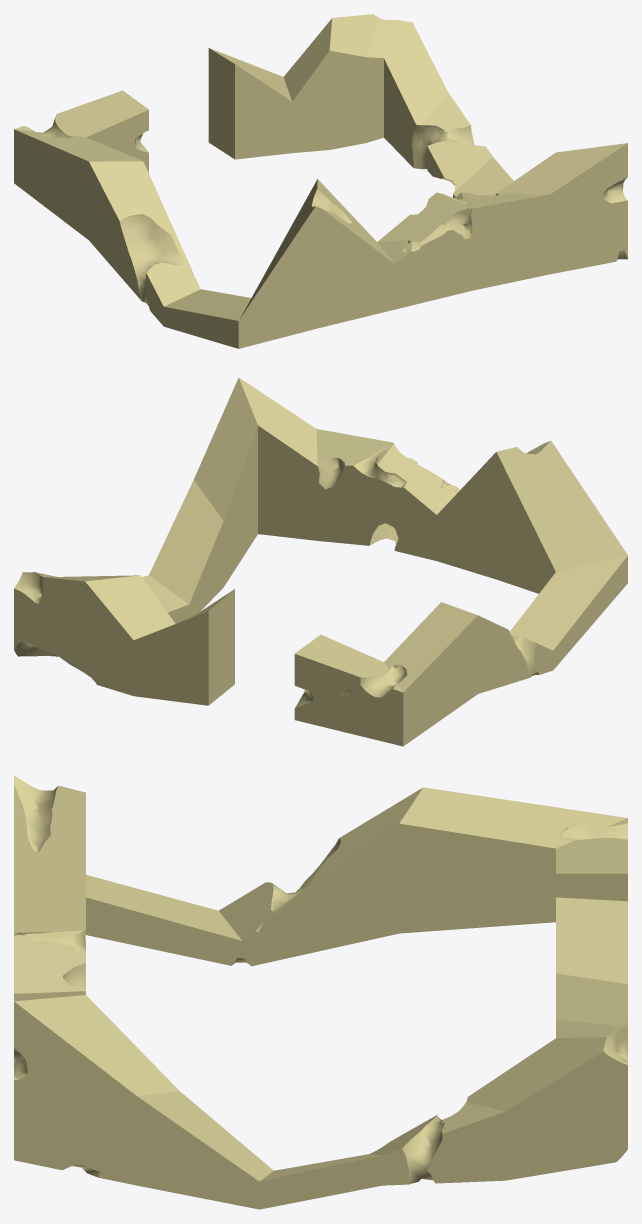
The model's file is Ruins_1.glb.
3 renders of one model, top to bottom at view 1: azimuth 30°, elevation 25°; view 2: azimuth 150°, elevation 25°; view 3: azimuth 270°, elevation 25°, orthographic. The views are drawn at different scales.
Visible parts, largest first — view 1: Ruins_1; view 2: Ruins_1; view 3: Ruins_1.
Part boxes in pixels (left/top/right/bottom): Ruins_1: left=14, top=14, right=627, bottom=348; Ruins_1: left=14, top=377, right=627, bottom=746; Ruins_1: left=14, top=775, right=627, bottom=1209.
Bounding box in the file's own units: 9.65 × 4.24 × 9.65.
